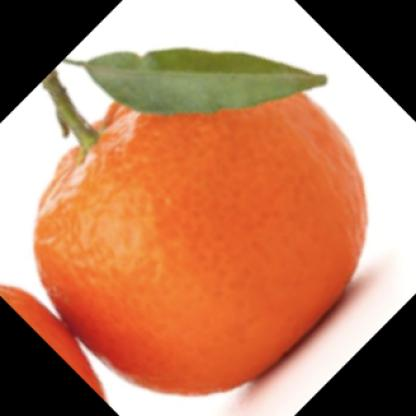fresh: (33, 53, 370, 397)
